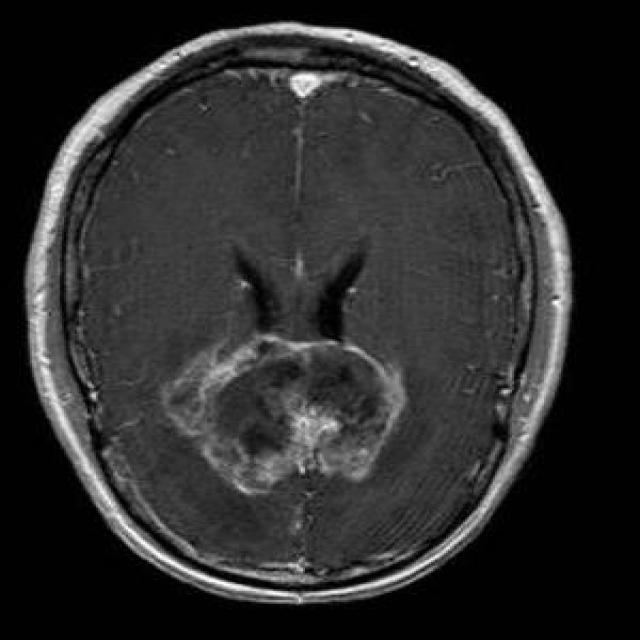brain tumor: (162, 341, 405, 493)
